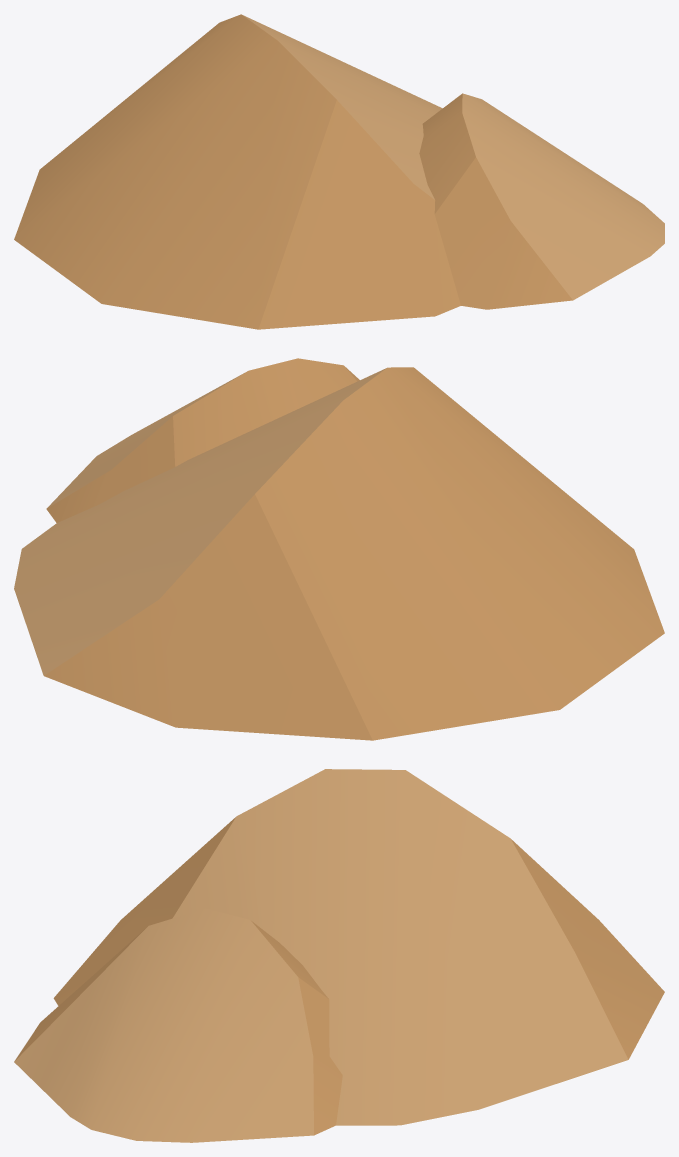
File: Sand_Mound.glb
3 renders of one model, top to bottom at view 1: azimuth 30°, elevation 25°; view 2: azimuth 150°, elevation 25°; view 3: azimuth 270°, elevation 25°, orthographic. The views are drawn at different scales.
Visible parts, largest first — view 1: Sand_Mound; view 2: Sand_Mound; view 3: Sand_Mound.
Boxes of the visible parts, box(x1,y1,x2,y2) form: Sand_Mound: box(14, 14, 664, 329); Sand_Mound: box(14, 358, 664, 740); Sand_Mound: box(14, 769, 664, 1142).
Bounding box in the file's own units: 2.97 × 1.08 × 3.
Materials: 1 (1 with a texture image).
